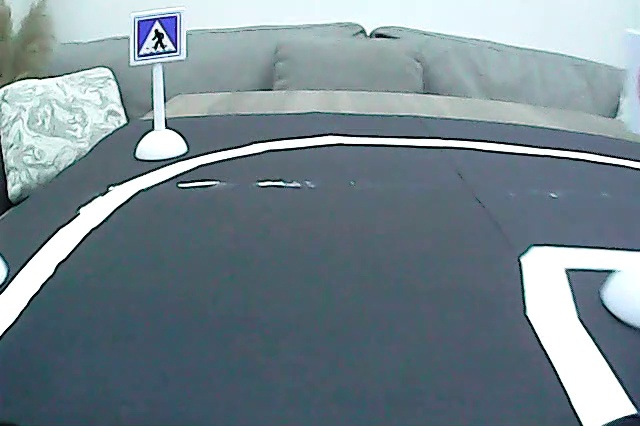pedestrian crossing: (134, 12, 181, 58)
